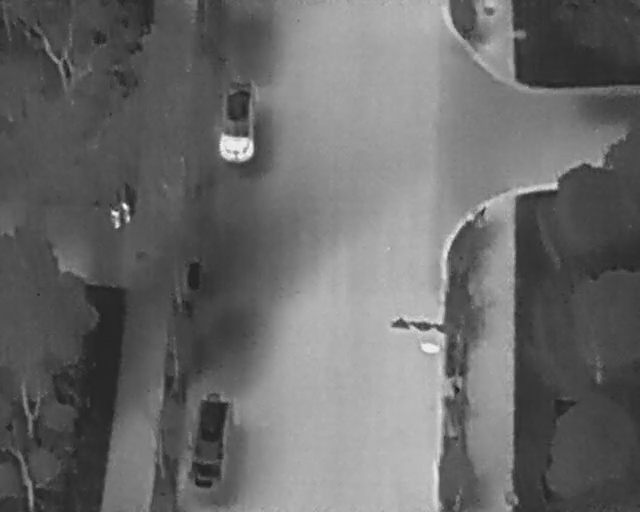Car: (184, 391, 234, 492), (216, 83, 258, 163)
Person: (119, 200, 133, 225), (108, 204, 122, 229)
